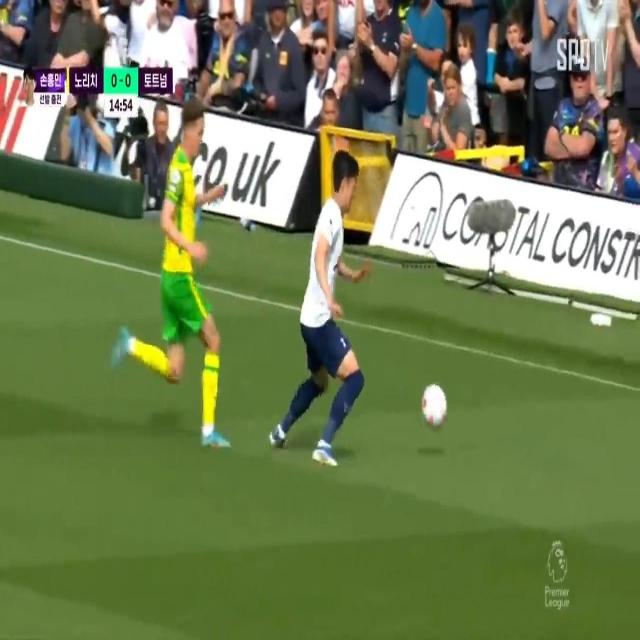ball: (417, 378, 448, 441)
player: (124, 89, 226, 431), (276, 139, 373, 465)
